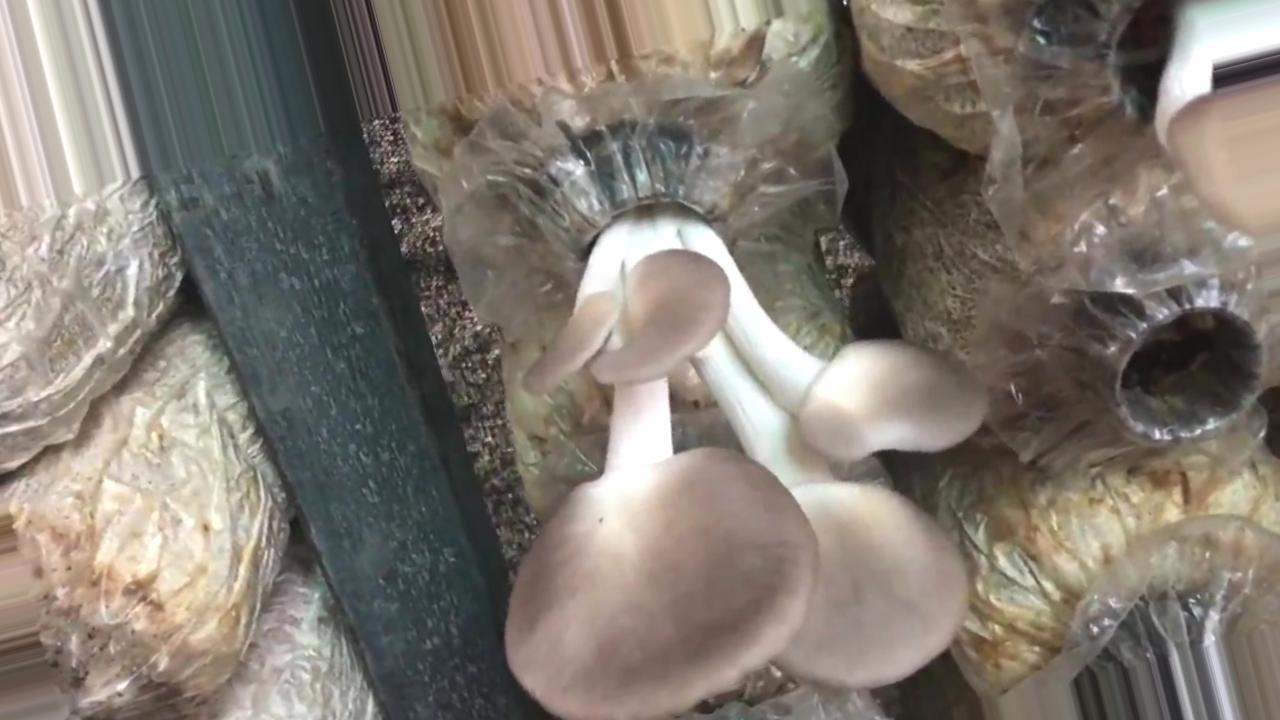nam: (503, 135, 985, 720), (1102, 4, 1280, 238)
